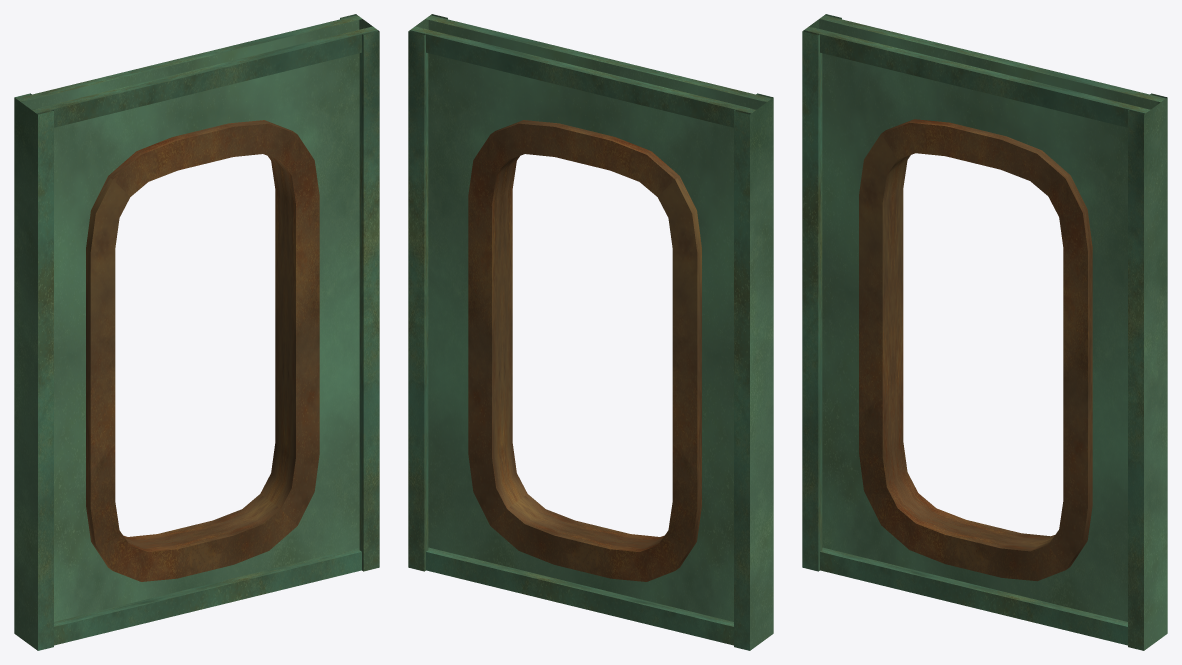
The model's file is DoorFrame.FBX.
The picture shows the model from 3 angles, left to right: view 1: azimuth 30°, elevation 25°; view 2: azimuth 150°, elevation 25°; view 3: azimuth 330°, elevation 25°; orthographic projection.
Parts seen in each view (by area): view 1: Object003; view 2: Object003; view 3: Object003.
Part boxes in pixels (left/top/right/bottom): Object003: left=14, top=14, right=379, bottom=650; Object003: left=408, top=14, right=773, bottom=650; Object003: left=802, top=14, right=1167, bottom=650.
Bounding box in the file's own units: 200 × 300 × 24.01.
